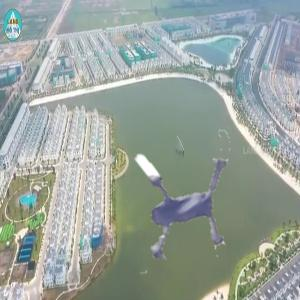drone: (95, 111, 263, 279)
